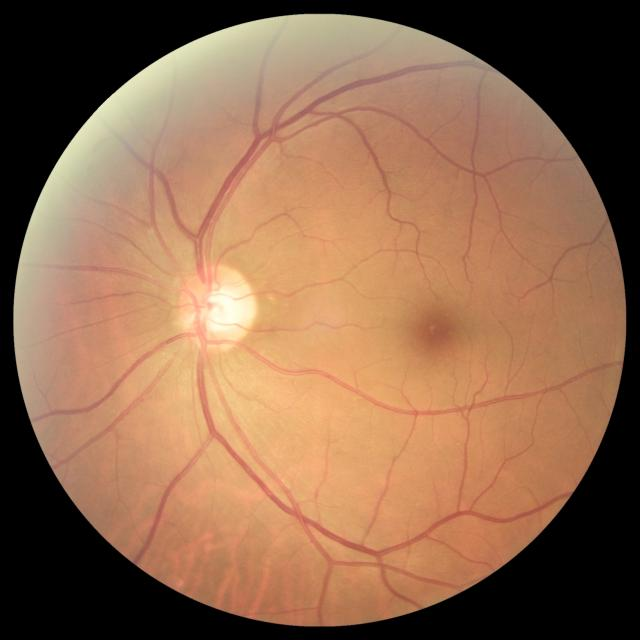OC: (194, 281, 240, 334)
OD: (175, 263, 259, 354)
